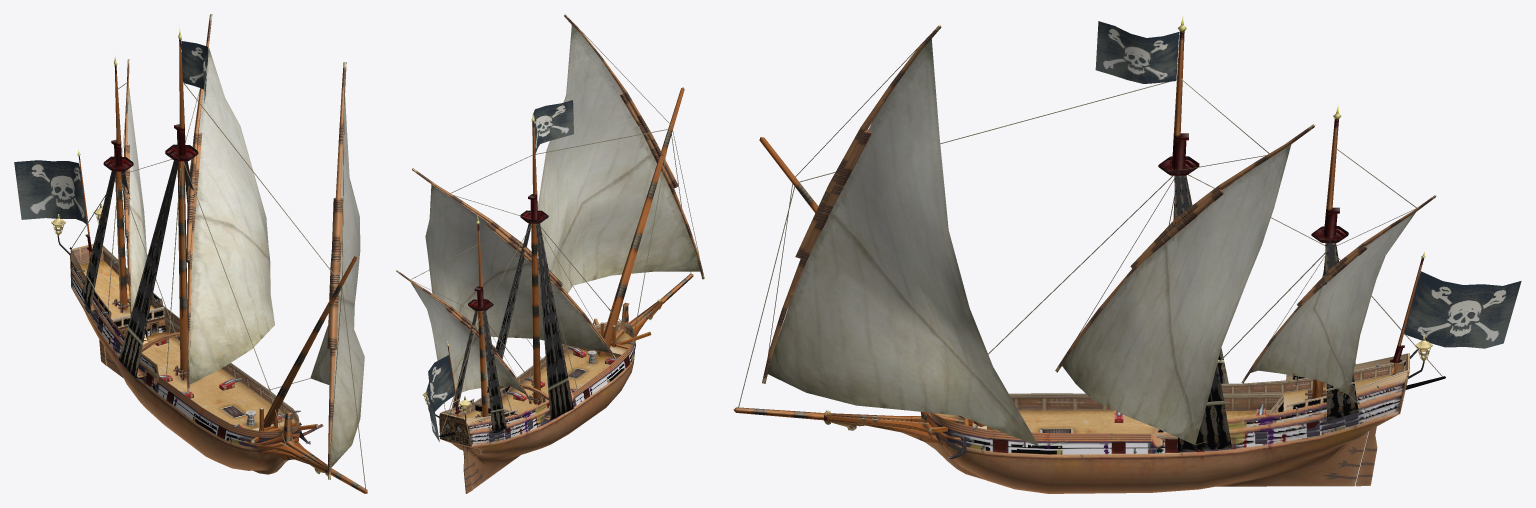
The model's file is barque.glb.
The picture shows the model from 3 angles, left to right: view 1: azimuth 30°, elevation 25°; view 2: azimuth 150°, elevation 25°; view 3: azimuth 270°, elevation 25°; orthographic projection. The views are drawn at different scales.
Visible parts, largest first — view 1: hull_hull_50_component_00, sail_hull_40_component_01, sail_hull_35_component_00, sail_hull_40_component_02, flag_hull_68_component_00, sail_hull_29_component_00, native_hull_13_component_01, sail_hull_40_component_00, native_hull_50_component_22, native_hull_56_component_00, native_hull_56_component_08, native_hull_13_component_02 (+15 smaller); view 2: sail_hull_29_component_00, sail_hull_35_component_00, hull_hull_50_component_00, sail_hull_40_component_02, sail_hull_40_component_00, native_hull_13_component_01, sail_hull_40_component_01, native_hull_56_component_00, flag_hull_68_component_01, flag_hull_68_component_00, native_hull_13_component_02, native_hull_56_component_08 (+13 smaller); view 3: sail_hull_40_component_02, hull_hull_50_component_00, sail_hull_40_component_01, sail_hull_29_component_00, sail_hull_35_component_00, sail_hull_40_component_00, flag_hull_68_component_00, flag_hull_68_component_01, native_hull_13_component_00, native_hull_50_component_27, native_hull_56_component_09, native_hull_50_component_22 (+6 smaller).
Boxes of the visible parts, x1=… form: hull_hull_50_component_00: x1=70, y1=243, x2=299, y2=474; sail_hull_40_component_01: x1=190, y1=51, x2=274, y2=371; sail_hull_35_component_00: x1=190, y1=47, x2=270, y2=384; sail_hull_40_component_02: x1=310, y1=97, x2=364, y2=467; flag_hull_68_component_00: x1=14, y1=160, x2=86, y2=224; sail_hull_29_component_00: x1=313, y1=159, x2=363, y2=409; native_hull_13_component_01: x1=119, y1=160, x2=178, y2=382; sail_hull_40_component_00: x1=127, y1=87, x2=146, y2=309; native_hull_50_component_22: x1=327, y1=62, x2=346, y2=350; native_hull_56_component_00: x1=259, y1=256, x2=357, y2=429; native_hull_56_component_08: x1=177, y1=161, x2=187, y2=323; native_hull_13_component_02: x1=81, y1=171, x2=116, y2=314; sail_hull_29_component_00: x1=537, y1=25, x2=700, y2=292; sail_hull_35_component_00: x1=427, y1=184, x2=609, y2=352; hull_hull_50_component_00: x1=439, y1=321, x2=634, y2=489; sail_hull_40_component_02: x1=539, y1=86, x2=686, y2=293; sail_hull_40_component_00: x1=411, y1=283, x2=524, y2=397; native_hull_13_component_01: x1=535, y1=223, x2=573, y2=422; sail_hull_40_component_01: x1=425, y1=185, x2=607, y2=351; native_hull_56_component_00: x1=598, y1=87, x2=684, y2=356; flag_hull_68_component_01: x1=533, y1=100, x2=573, y2=153; flag_hull_68_component_00: x1=426, y1=355, x2=454, y2=441; native_hull_13_component_02: x1=482, y1=310, x2=506, y2=434; native_hull_56_component_08: x1=531, y1=223, x2=540, y2=373; sail_hull_40_component_02: x1=767, y1=39, x2=1038, y2=446; hull_hull_50_component_00: x1=925, y1=353, x2=1409, y2=493; sail_hull_40_component_01: x1=1063, y1=146, x2=1290, y2=444; sail_hull_29_component_00: x1=785, y1=39, x2=1026, y2=431; sail_hull_35_component_00: x1=1061, y1=145, x2=1290, y2=444; sail_hull_40_component_00: x1=1250, y1=212, x2=1415, y2=395; flag_hull_68_component_00: x1=1404, y1=271, x2=1521, y2=348; flag_hull_68_component_01: x1=1095, y1=21, x2=1179, y2=83; native_hull_13_component_00: x1=1174, y1=175, x2=1231, y2=451; native_hull_50_component_27: x1=762, y1=129, x2=871, y2=383; native_hull_56_component_09: x1=1158, y1=14, x2=1199, y2=175; native_hull_50_component_22: x1=795, y1=24, x2=941, y2=258.
Size of the model in its own units: 9.73 by 26.04 by 37.39.
Materials: 105 (105 with a texture image).
